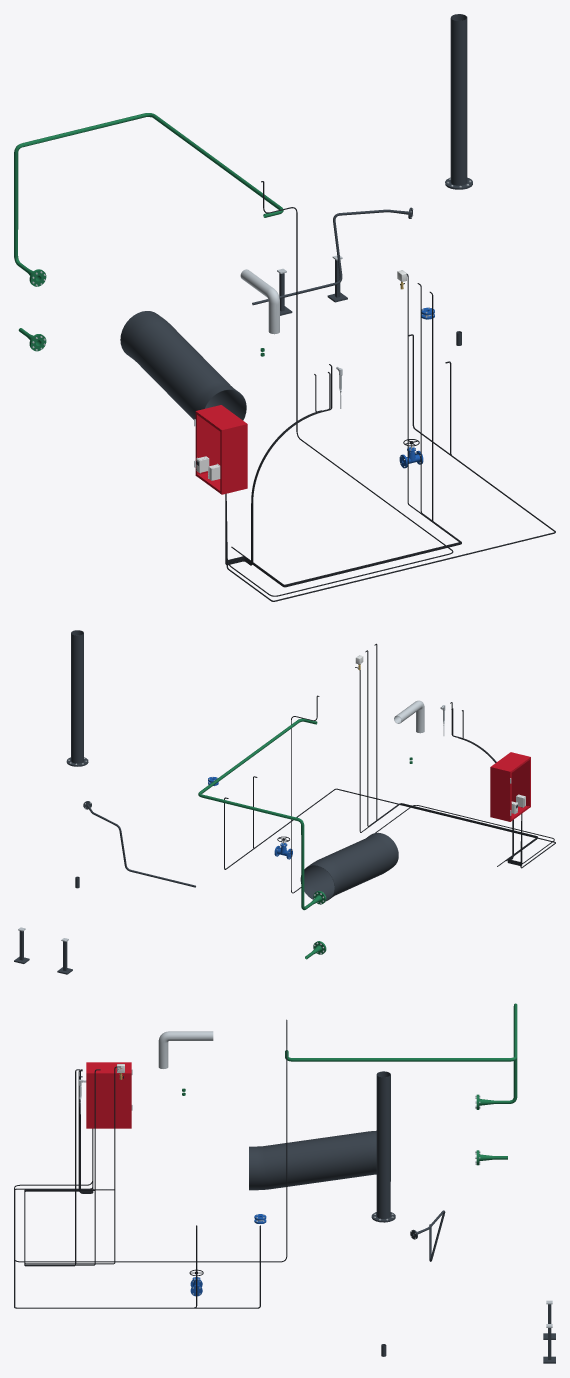
3 views of the same model, one above another, from view 1: azimuth 30°, elevation 25°; view 2: azimuth 150°, elevation 25°; view 3: azimuth 270°, elevation 25° (orthographic). The views are drawn at different scales.
Visible parts, largest first — view 1: flue_spacer / dark, cables / black, control_cabinet / control_cabinet_0.npz, bdv_vent / dark, from_economizer / green, mod_direct_drive_cable / black, steam_rise / steel, tds_without_fv / dark; view 2: flue_spacer / dark, cables / black, control_cabinet / control_cabinet_0.npz, bdv_vent / dark, from_economizer / green, mod_direct_drive_cable / black, steam_rise / steel, tds_without_fv / dark, trap_support / dark; view 3: flue_spacer / dark, cables / black, control_cabinet / control_cabinet_0.npz, bdv_vent / dark, from_economizer / green, mod_direct_drive_cable / black, steam_rise / steel.
Boxes of the visible parts, x1,y1,x2,y2 form: flue_spacer / dark: (120, 311, 246, 420); cables / black: (225, 274, 555, 601); control_cabinet / control_cabinet_0.npz: (194, 405, 247, 494); bdv_vent / dark: (445, 14, 472, 189); from_economizer / green: (14, 113, 283, 271); mod_direct_drive_cable / black: (227, 181, 453, 596); steam_rise / steel: (240, 269, 279, 334); tds_without_fv / dark: (252, 207, 412, 305); flue_spacer / dark: (300, 832, 398, 901); cables / black: (224, 643, 555, 869); control_cabinet / control_cabinet_0.npz: (490, 752, 530, 821); bdv_vent / dark: (66, 630, 88, 766); from_economizer / green: (198, 718, 317, 910); mod_direct_drive_cable / black: (291, 695, 554, 893); steam_rise / steel: (394, 700, 424, 733); tds_without_fv / dark: (83, 801, 195, 887); trap_support / dark: (14, 931, 72, 974); flue_spacer / dark: (249, 1130, 376, 1190); cables / black: (14, 1066, 260, 1308); control_cabinet / control_cabinet_0.npz: (86, 1062, 132, 1128); bdv_vent / dark: (371, 1071, 395, 1222); from_economizer / green: (285, 1003, 517, 1103); mod_direct_drive_cable / black: (14, 1019, 287, 1262); steam_rise / steel: (158, 1031, 213, 1068).
Size of the model in its own units: 4.97 by 3.85 by 6.37.
